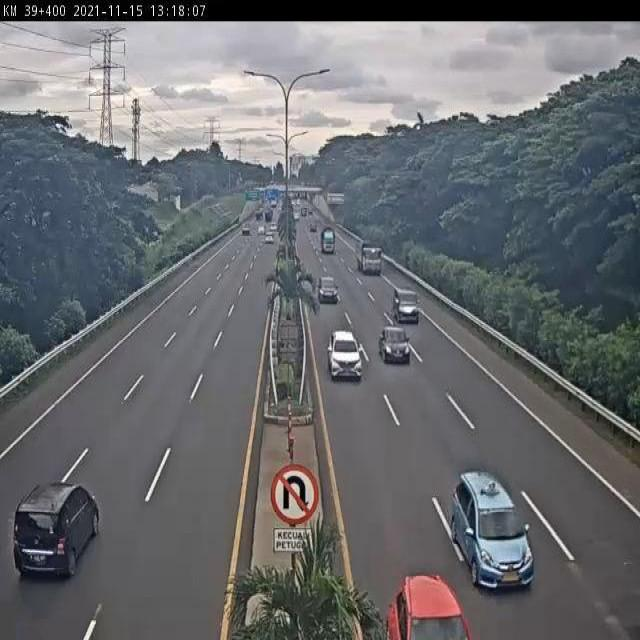car: (450, 467, 536, 593), (12, 482, 101, 578), (326, 329, 366, 382), (377, 325, 413, 367), (317, 275, 339, 305)
truck-s-: (392, 284, 422, 327)
